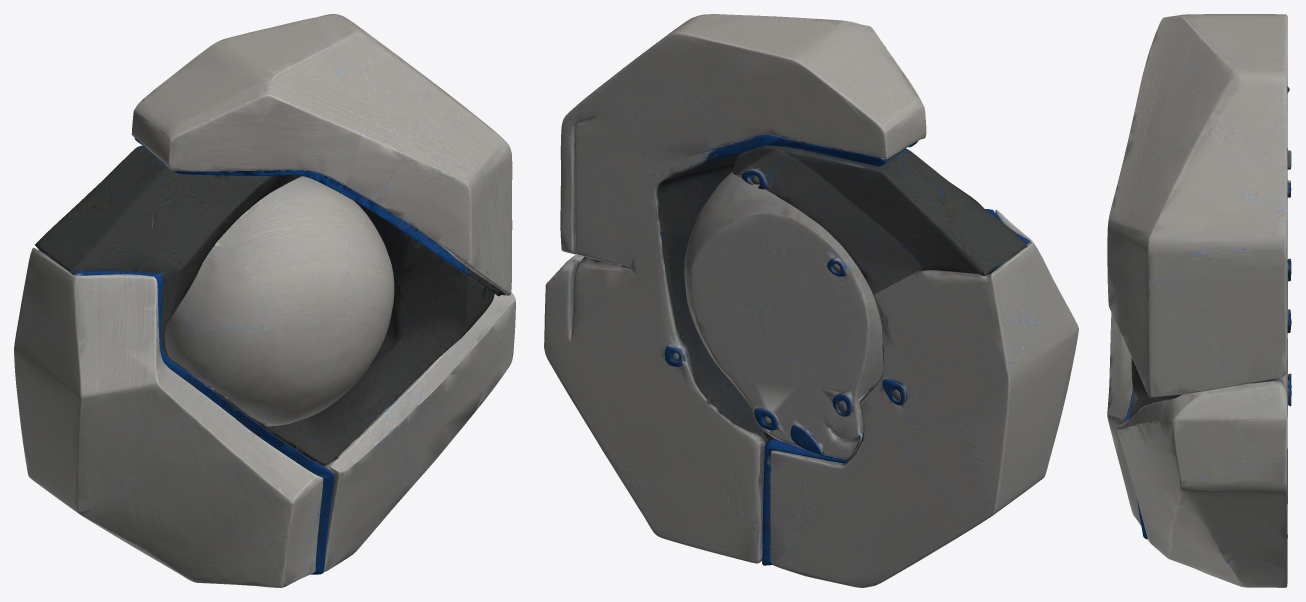
Rendered from abstract-sculpture.glb.
The picture shows the model from 3 angles, left to right: view 1: azimuth 30°, elevation 25°; view 2: azimuth 150°, elevation 25°; view 3: azimuth 270°, elevation 25°; orthographic projection. The views are drawn at different scales.
Size of the model in its own units: 1.8 by 1.9 by 0.6221.
Materials: 1 (1 with a texture image).
